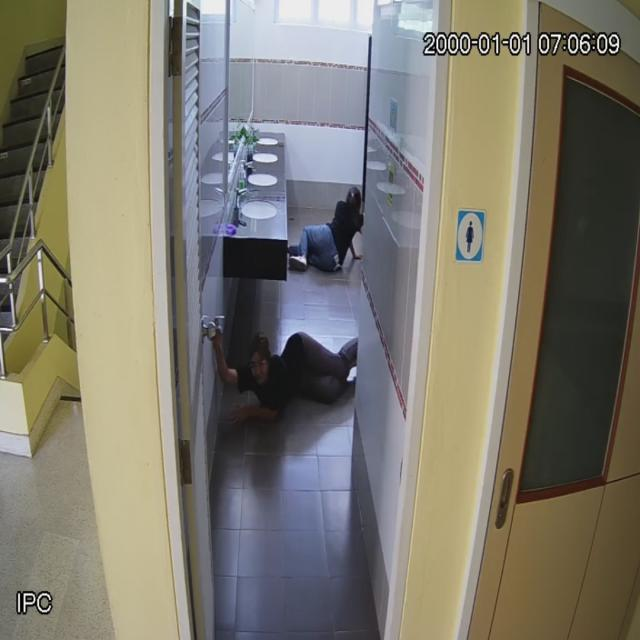fall: (215, 320, 368, 423), (286, 185, 366, 286)
